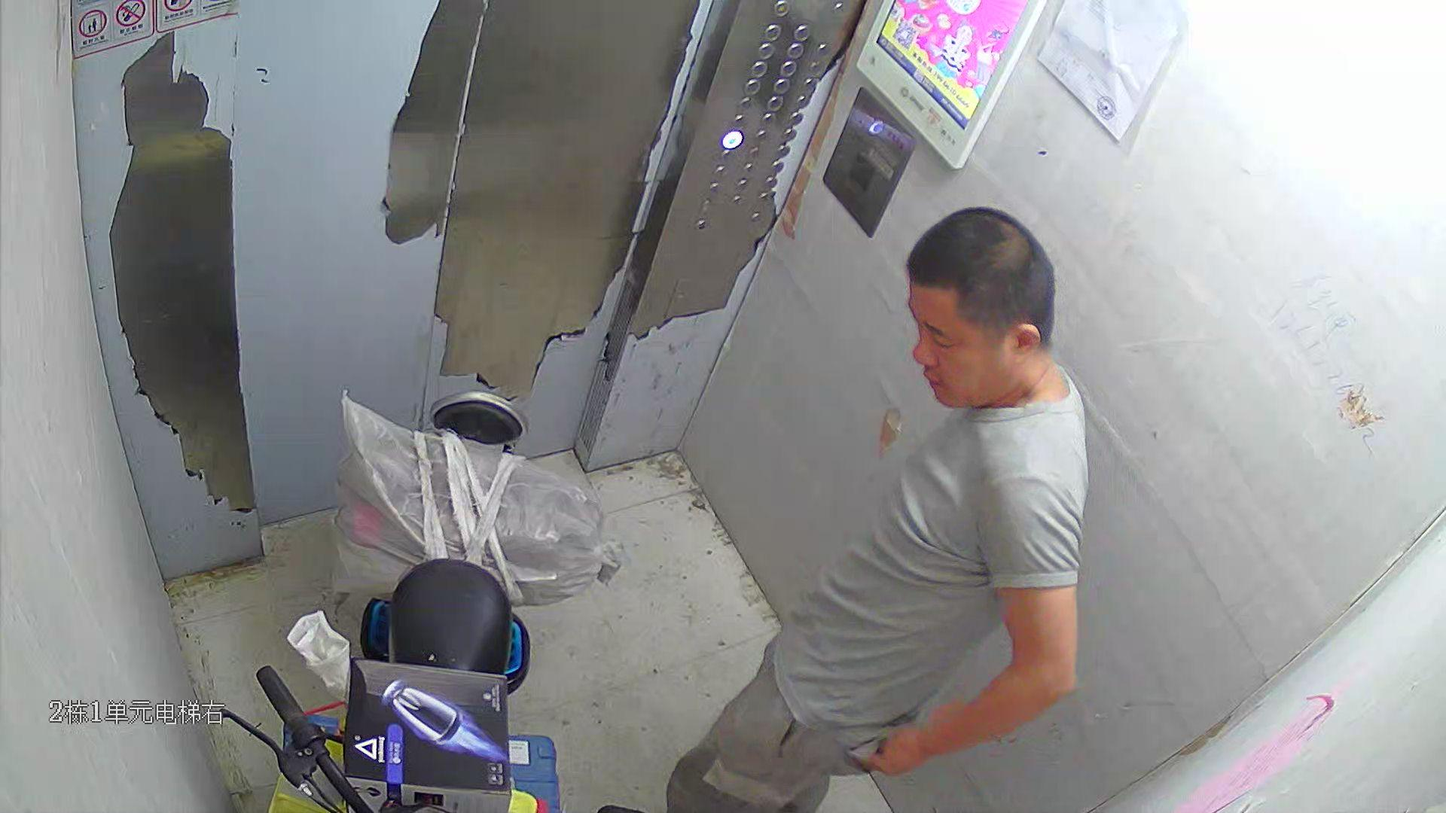Electric-bicycle: (218, 395, 550, 809)
